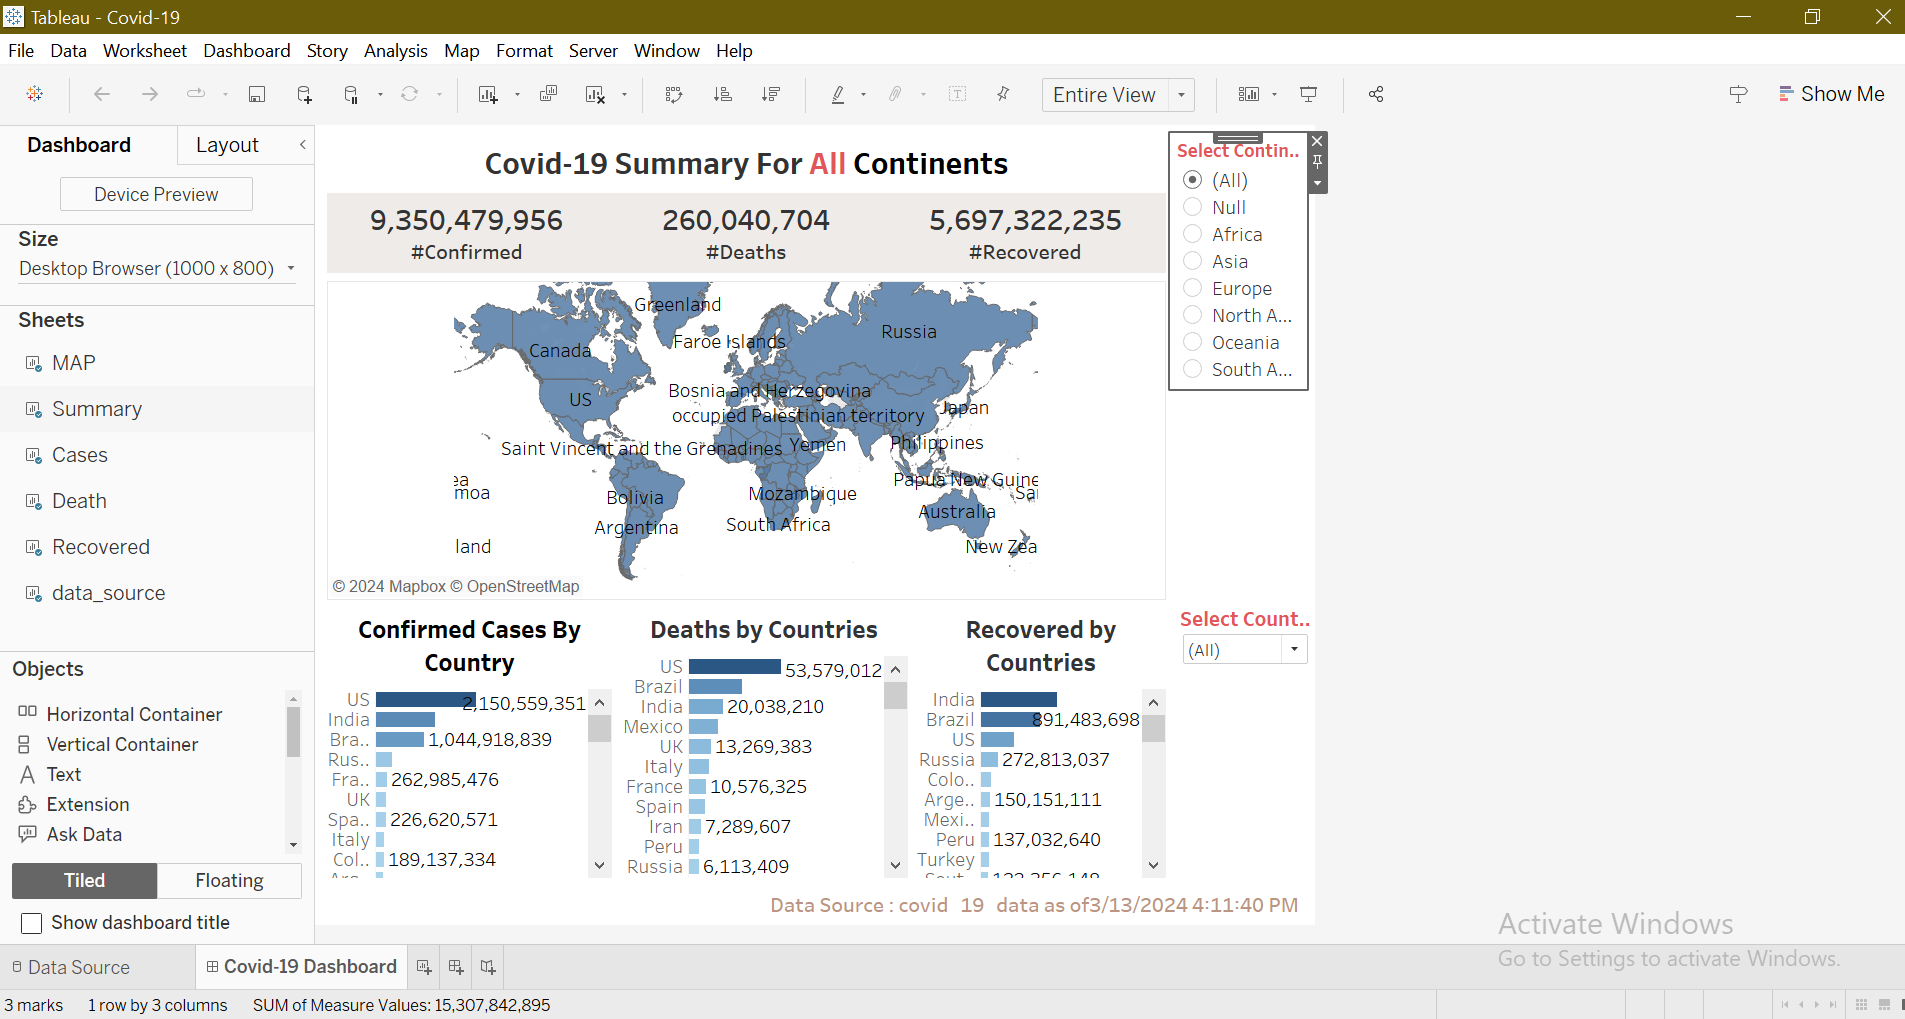

The dashboard page shown, as its layout file describes it:
{"tool":"tableau","page":{"name":"Covid-19 Dashboard","canvas":[1000,800],"ordinal":0},"visuals":[{"type":"worksheet","title":"Summary","mark":"Automatic","box":[8,8,847,144.3]},{"type":"filter","title":"Summary","param":"[federated.16ek2ds0o4ekdl134vdp71of282h].[none:Continent:nk]","box":[855,8,137,256]},{"type":"worksheet","title":"MAP","mark":"Multipolygon","box":[8,152.3,847,326.7]},{"type":"worksheet","title":"Cases","mark":"Automatic","rows":["Country/Region"],"cols":["Confirmed"],"box":[8,479,293,278]},{"type":"worksheet","title":"Death","mark":"Automatic","rows":["Country/Region"],"cols":["Deaths"],"box":[301,479,296,278]},{"type":"worksheet","title":"Recovered","mark":"Automatic","rows":["Country/Region"],"cols":["Recovered"],"box":[597,479,258,278]},{"type":"filter","title":"Recovered","param":"[federated.16ek2ds0o4ekdl134vdp71of282h].[none:Country/Region:nk]","box":[864.6,479.1,130.9,62.1]},{"type":"worksheet","title":"data_source","mark":"Automatic","box":[8,757,984,35]}]}

Visuals, with their boxes on the page's 1000x800 design canvas (x1, y1, x2, y2). These are canvas units, not pixel positions in the 1905x1019 screenshot, which may show the page scaled, cropped or inside an application window:
"Summary" worksheet: box(8, 8, 855, 152)
"Summary" filter: box(855, 8, 992, 264)
"MAP" worksheet (Multipolygon marks): box(8, 152, 855, 479)
"Cases" worksheet: box(8, 479, 301, 757)
"Death" worksheet: box(301, 479, 597, 757)
"Recovered" worksheet: box(597, 479, 855, 757)
"Recovered" filter: box(865, 479, 996, 541)
"data_source" worksheet: box(8, 757, 992, 792)
